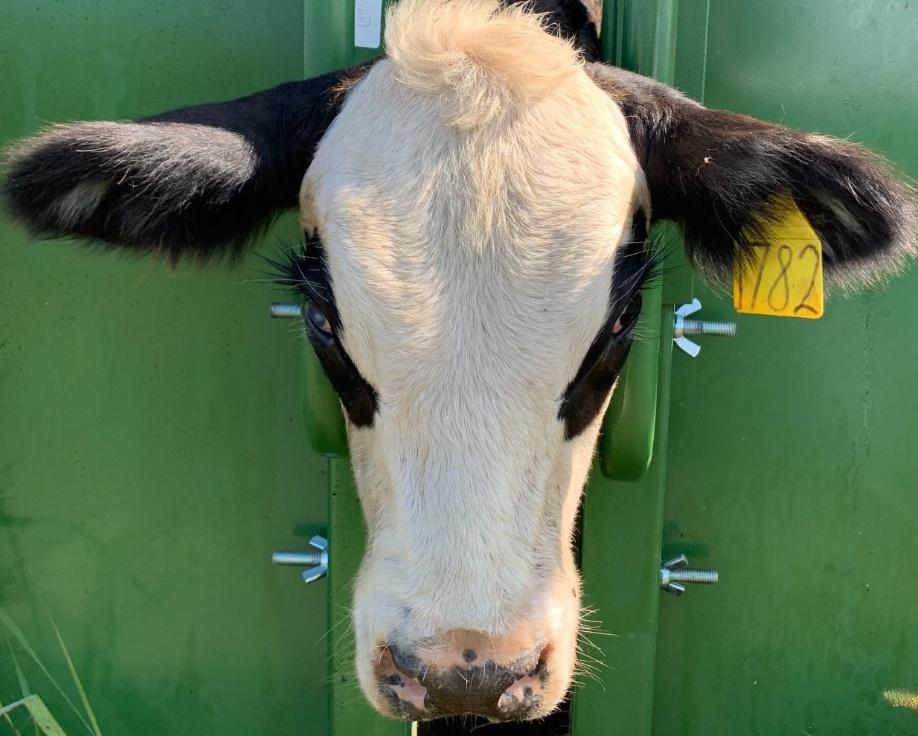muzzles: (339, 577, 600, 726)
